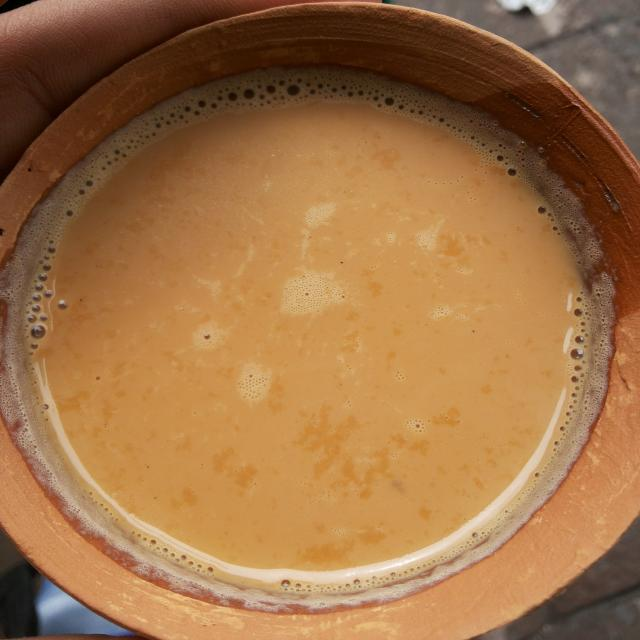Chai: (22, 85, 610, 603)
